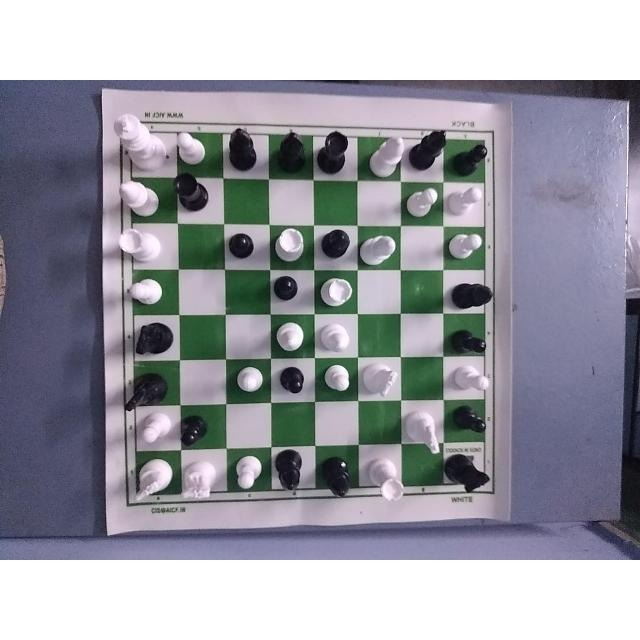black-bishop: (271, 446, 313, 498), (269, 125, 305, 180), (410, 123, 448, 174), (319, 453, 359, 500), (224, 127, 263, 173), (318, 221, 355, 267), (448, 280, 495, 312)
black-knight: (448, 445, 496, 497), (124, 316, 181, 359), (123, 372, 165, 413)
black-pawn: (222, 224, 262, 265), (452, 137, 488, 179), (447, 329, 493, 359), (273, 366, 310, 402), (269, 275, 308, 307), (452, 406, 488, 440), (177, 412, 205, 451)
black-rook: (313, 128, 352, 178), (173, 171, 209, 212)
white-bishop: (363, 131, 407, 179), (116, 177, 164, 219), (318, 318, 356, 356), (362, 229, 398, 269), (274, 315, 308, 356)
white-king: (109, 108, 167, 169)
white-knight: (130, 455, 178, 505), (179, 458, 223, 506), (406, 407, 445, 455), (360, 360, 402, 402)
white-pawn: (170, 128, 214, 166), (450, 223, 484, 269), (134, 408, 175, 446), (447, 366, 494, 398), (405, 186, 445, 222), (317, 362, 352, 399), (230, 453, 262, 493), (445, 184, 483, 216), (127, 277, 167, 306), (233, 368, 265, 396)
white-rook: (364, 451, 408, 501), (120, 226, 164, 265), (319, 275, 359, 313), (271, 229, 311, 266)
